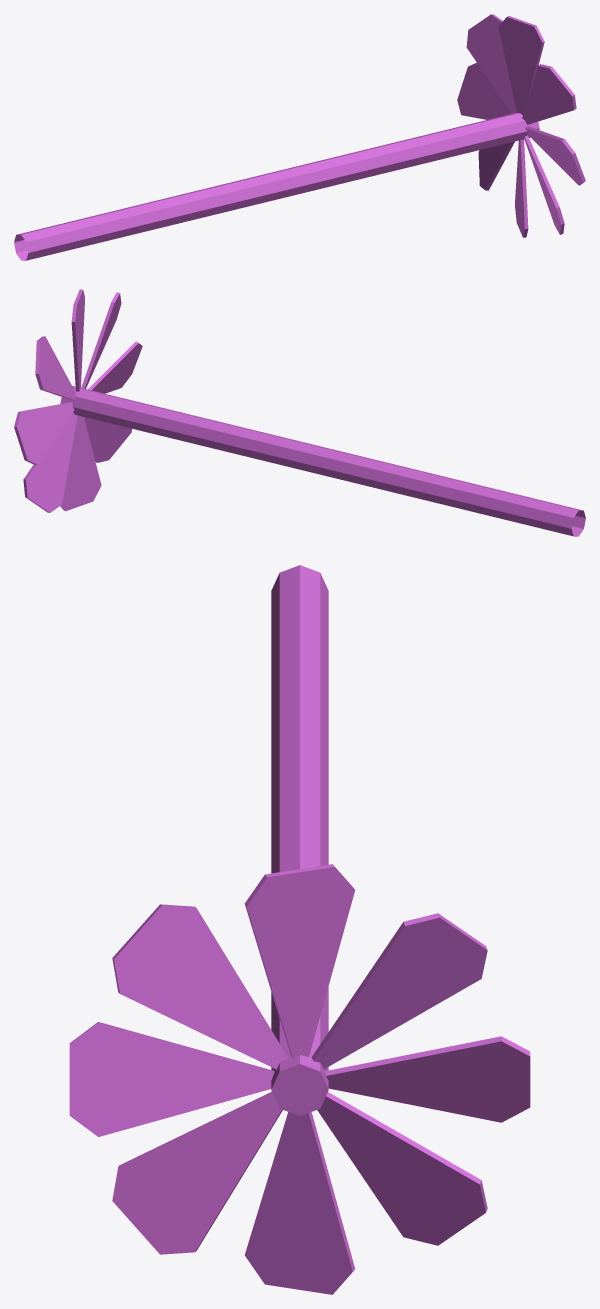
The model's file is CB_Fan.fbx.
3 renders of one model, top to bottom at view 1: azimuth 30°, elevation 25°; view 2: azimuth 150°, elevation 25°; view 3: azimuth 270°, elevation 25°, orthographic. The views are drawn at different scales.
Parts seen in each view (by area): view 1: CB_Fan; view 2: CB_Fan; view 3: CB_Fan.
Boxes of the visible parts, <box> form: CB_Fan: <box>14,14,585,260</box>; CB_Fan: <box>14,289,585,536</box>; CB_Fan: <box>69,565,530,1294</box>.
Size of the model in its own units: 4.1 by 1.6 by 1.6.
